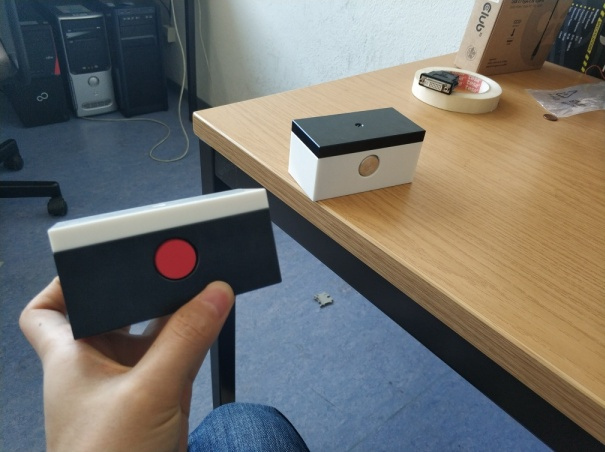black+white+silver: (288, 105, 427, 205)
white+black+red: (45, 186, 283, 341)
